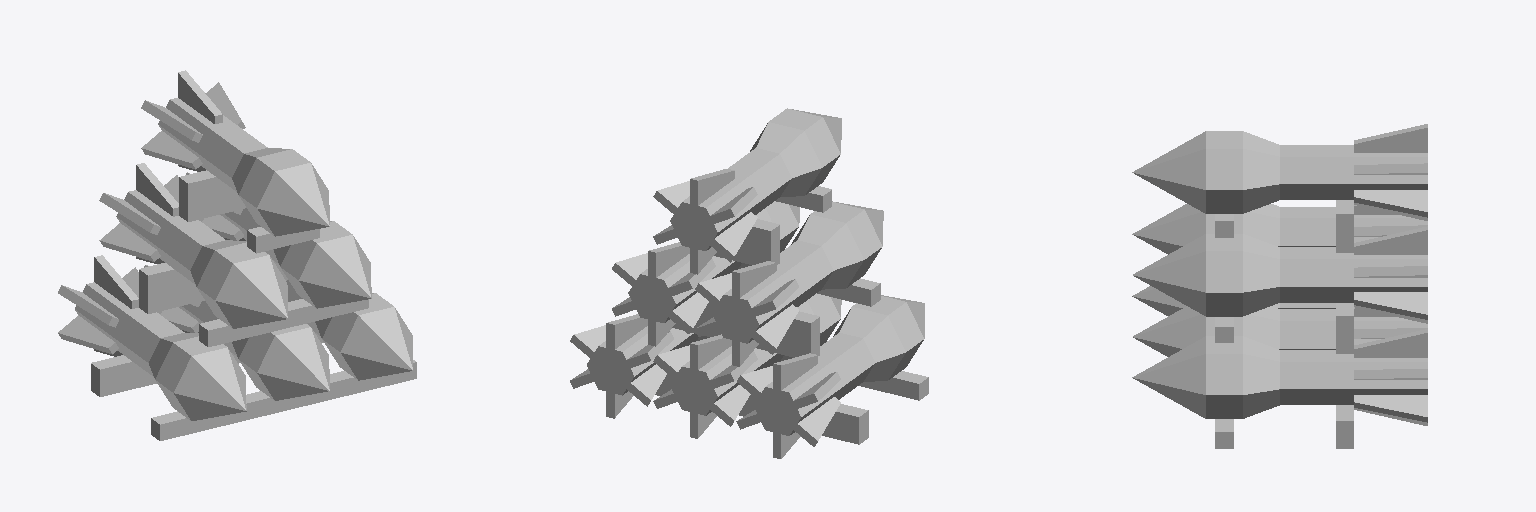
File: Rocket_Micro_rack.obj
3 views of the same model, side by side, from view 1: azimuth 30°, elevation 25°; view 2: azimuth 150°, elevation 25°; view 3: azimuth 270°, elevation 25° (orthographic).
Parts seen in each view (by area): view 1: Group_014, Group_013, Group_009, Group_012, Group_011, Group_010, Group_002, Group_003, Group_006, Group_005, Group_007, Component_1_033 (+12 smaller); view 2: Group_014, Group_013, Group_009, Group_011, Group_012, Group_010, Group_005, Group_007, Group_006, Group_002, Component_1_009, Component_1_039 (+24 smaller); view 3: Group_014, Group_012, Group_010, Group_011, Group_013, Component_1_041, Component_1_017, Component_1_026, Component_1_029, Component_1_014, Component_1_038, Group_009 (+9 smaller).
Part boxes in pixels (x1,y1,x2,y2): Group_014: (158,98,329,236); Group_013: (116,190,287,328); Group_009: (75,282,246,420); Group_012: (220,208,371,308); Group_011: (179,301,329,400); Group_010: (286,280,412,380); Group_002: (151,360,416,440); Group_003: (199,299,368,346); Group_006: (179,170,245,221); Group_005: (139,260,287,313); Group_007: (91,333,323,396); Component_1_033: (99,223,160,261); Group_014: (670,108,841,250); Group_013: (712,201,883,343); Group_009: (753,295,924,435); Group_011: (670,293,841,415); Group_012: (628,201,799,322); Group_010: (587,326,709,395); Group_005: (672,302,819,357); Group_007: (655,374,868,444); Group_006: (714,219,779,264); Group_002: (859,371,928,400); Component_1_009: (794,397,840,446); Component_1_039: (710,212,757,262); Group_014: (1132,131,1427,213); Group_012: (1133,234,1427,316); Group_010: (1132,336,1427,418); Group_011: (1133,306,1427,356); Group_013: (1132,204,1427,254); Component_1_041: (1354,124,1427,152); Component_1_017: (1354,329,1427,357); Component_1_026: (1354,292,1427,319); Component_1_029: (1354,226,1427,254); Component_1_014: (1354,395,1427,422); Component_1_038: (1354,190,1427,217); Group_009: (1132,286,1335,315).
Bounding box in the file's own units: 630 × 612 × 630.